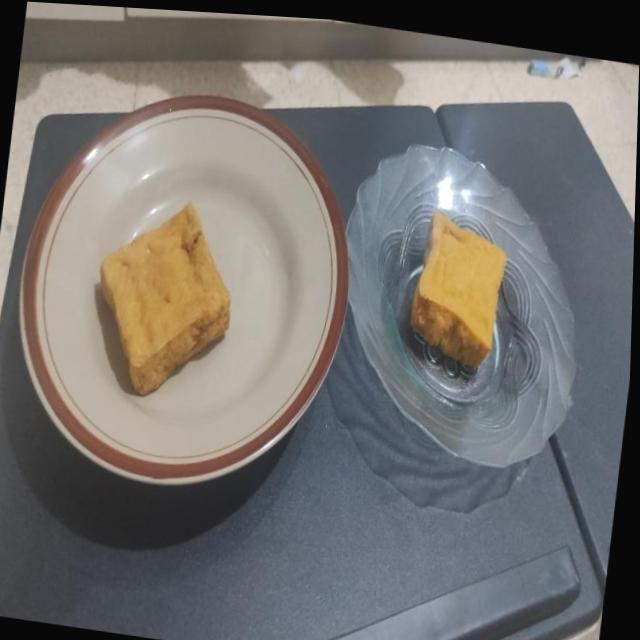tahu_goreng: (100, 202, 230, 394), (410, 211, 506, 366)
